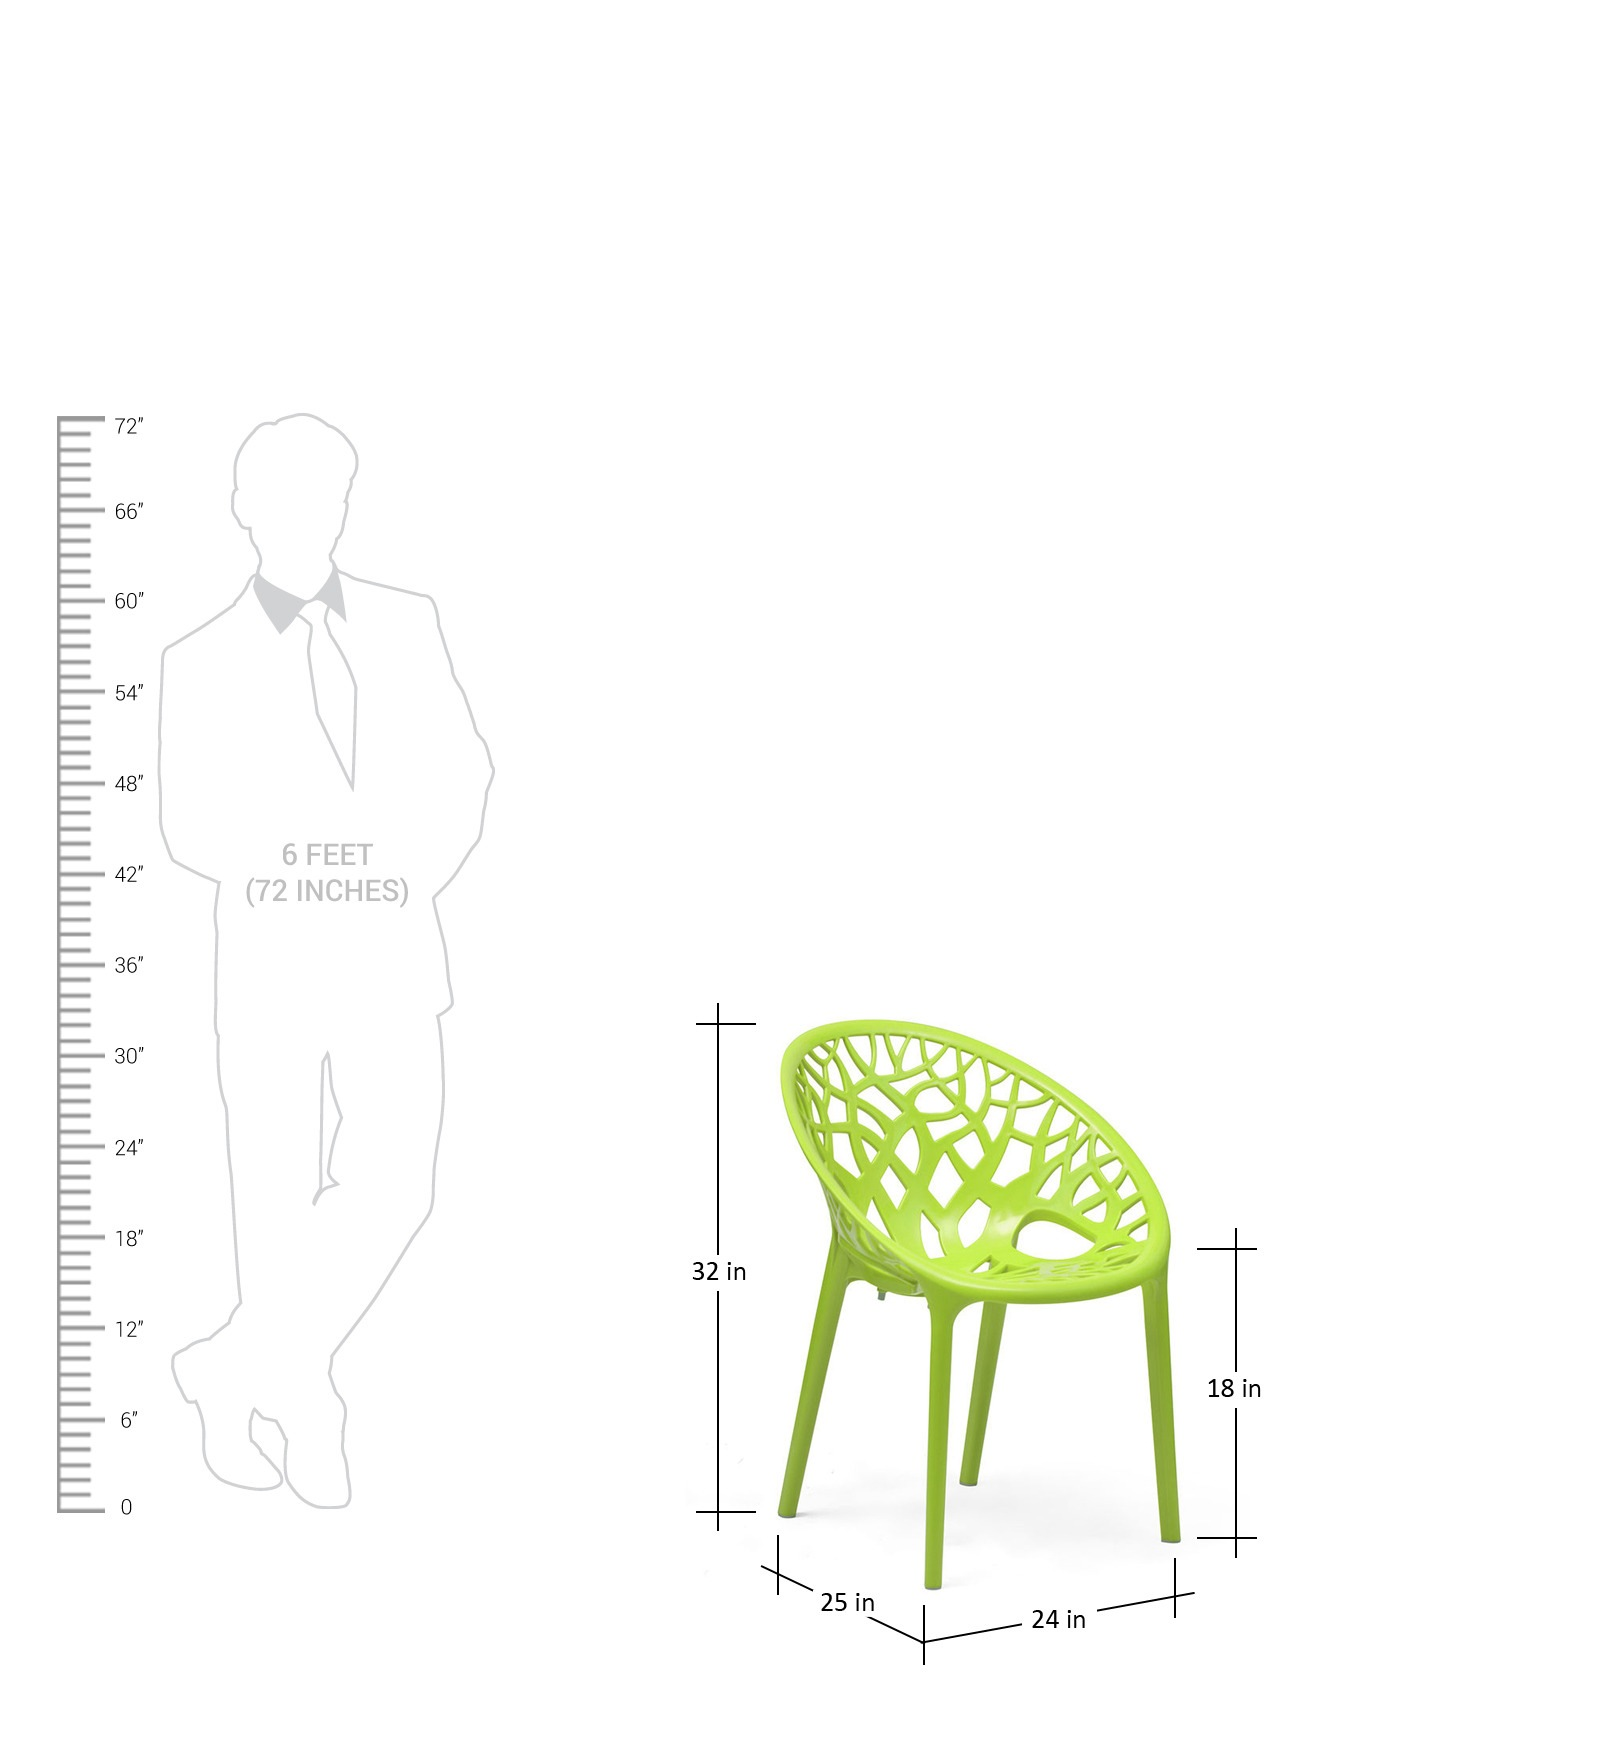Crystal Designer Chair in Lime Green Colour by Nilkamal: (754, 990, 1214, 1582)
